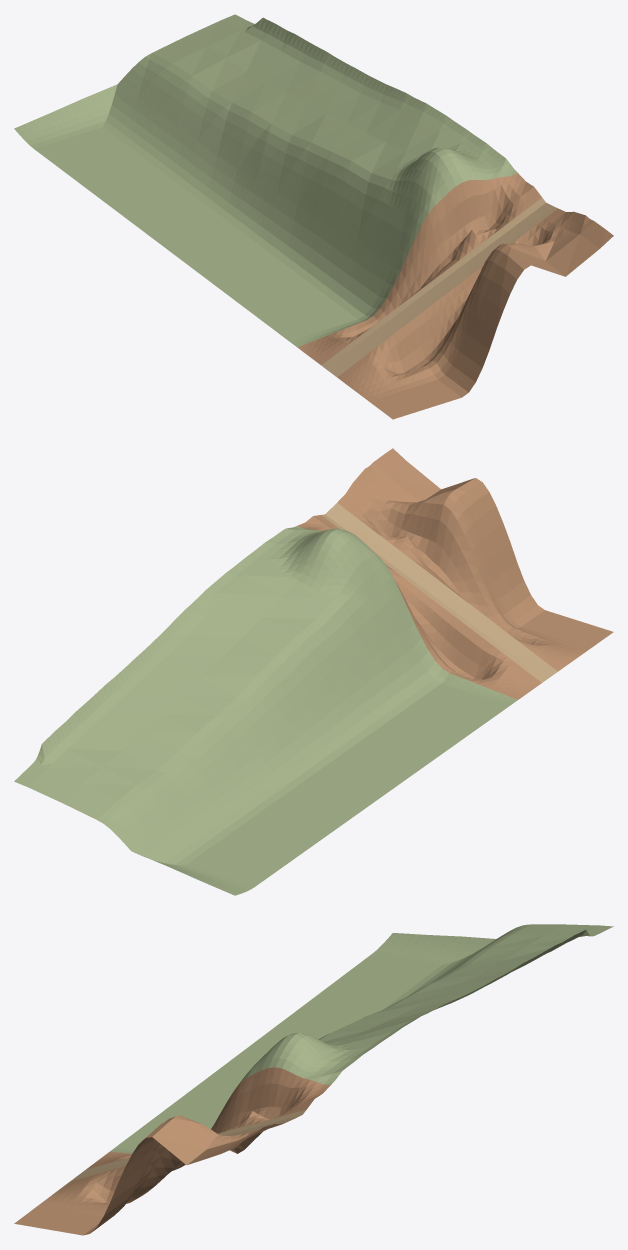
The model's file is standalone-reexport.glb.
3 views of the same model, one above another, from view 1: azimuth 30°, elevation 25°; view 2: azimuth 150°, elevation 25°; view 3: azimuth 330°, elevation 25° (orthographic).
Parts seen in each view (by area): view 1: ic-bridge.surface.grass, ic-lookout.surface.grass, ic-bridge.surface.earth, ic-koguchi.surface.earth, ic-bridge.surface.path, ic-koguchi.surface.path, ic-lookout.surface.earth; view 2: ic-lookout.surface.grass, ic-bridge.surface.grass, ic-bridge.surface.earth, ic-koguchi.surface.earth, ic-bridge.surface.path, ic-koguchi.surface.path; view 3: ic-bridge.surface.grass, ic-lookout.surface.grass, ic-bridge.surface.earth, ic-koguchi.surface.earth, ic-lookout.surface.earth, ic-koguchi.surface.path.
Boxes of the visible parts, <box> form: ic-bridge.surface.grass: <box>14,76,407,347</box>; ic-lookout.surface.grass: <box>125,14,517,255</box>; ic-bridge.surface.earth: <box>297,214,613,419</box>; ic-koguchi.surface.earth: <box>425,177,581,295</box>; ic-bridge.surface.path: <box>321,271,460,377</box>; ic-koguchi.surface.path: <box>446,197,557,282</box>; ic-lookout.surface.earth: <box>408,173,521,264</box>; ic-lookout.surface.grass: <box>14,526,407,843</box>; ic-bridge.surface.grass: <box>125,608,517,895</box>; ic-bridge.surface.earth: <box>361,448,613,699</box>; ic-koguchi.surface.earth: <box>301,474,457,603</box>; ic-bridge.surface.path: <box>418,576,557,682</box>; ic-koguchi.surface.path: <box>321,503,433,588</box>; ic-bridge.surface.grass: <box>110,933,500,1153</box>; ic-lookout.surface.grass: <box>236,924,613,1087</box>; ic-bridge.surface.earth: <box>14,1104,266,1235</box>; ic-koguchi.surface.earth: <box>182,1083,326,1162</box>; ic-lookout.surface.earth: <box>217,1067,330,1121</box>; ic-koguchi.surface.path: <box>217,1109,306,1135</box>.
Bounding box in the file's own units: 32 × 20.05 × 95.
